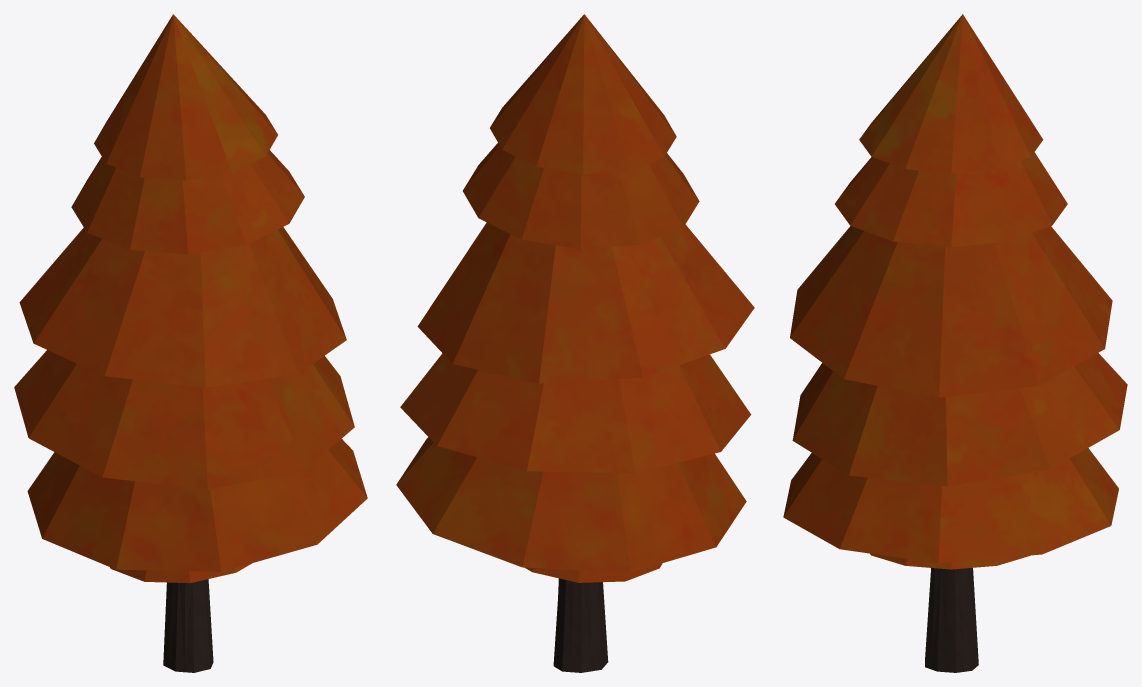
File: tree-green-orange-flowers_3.fbx
3 views of the same model, side by side, from view 1: azimuth 30°, elevation 25°; view 2: azimuth 150°, elevation 25°; view 3: azimuth 270°, elevation 25° (orthographic).
Visible parts, largest first — view 1: Cylinder.023; view 2: Cylinder.023; view 3: Cylinder.023.
Boxes of the visible parts, left/top/right/bottom form: Cylinder.023: left=14, top=14, right=367, bottom=672; Cylinder.023: left=396, top=14, right=754, bottom=672; Cylinder.023: left=783, top=14, right=1127, bottom=672.
Bounding box in the file's own units: 139 × 279 × 135.
